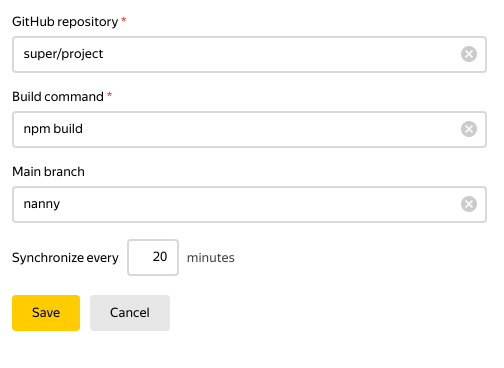
Test case: testing BuildDetails container component › если кликнуть по кнопке очистить, то очищается нужное поле
Click the text with test id "formRepoName-clearButton": [469, 54] box [461,46,477,62]
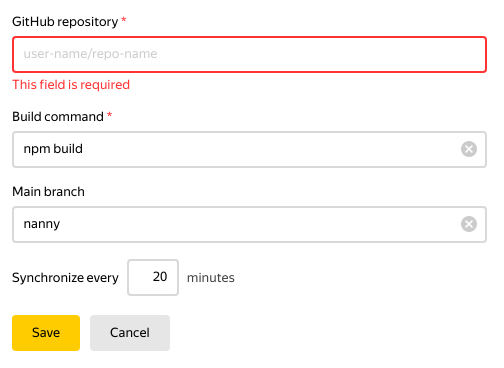
Expected: the field with test id "formBuildCommand" holds "npm build", [12,131,487,168]
Now the field with test id "formRepoName" is empty, box [12,36,487,73]
